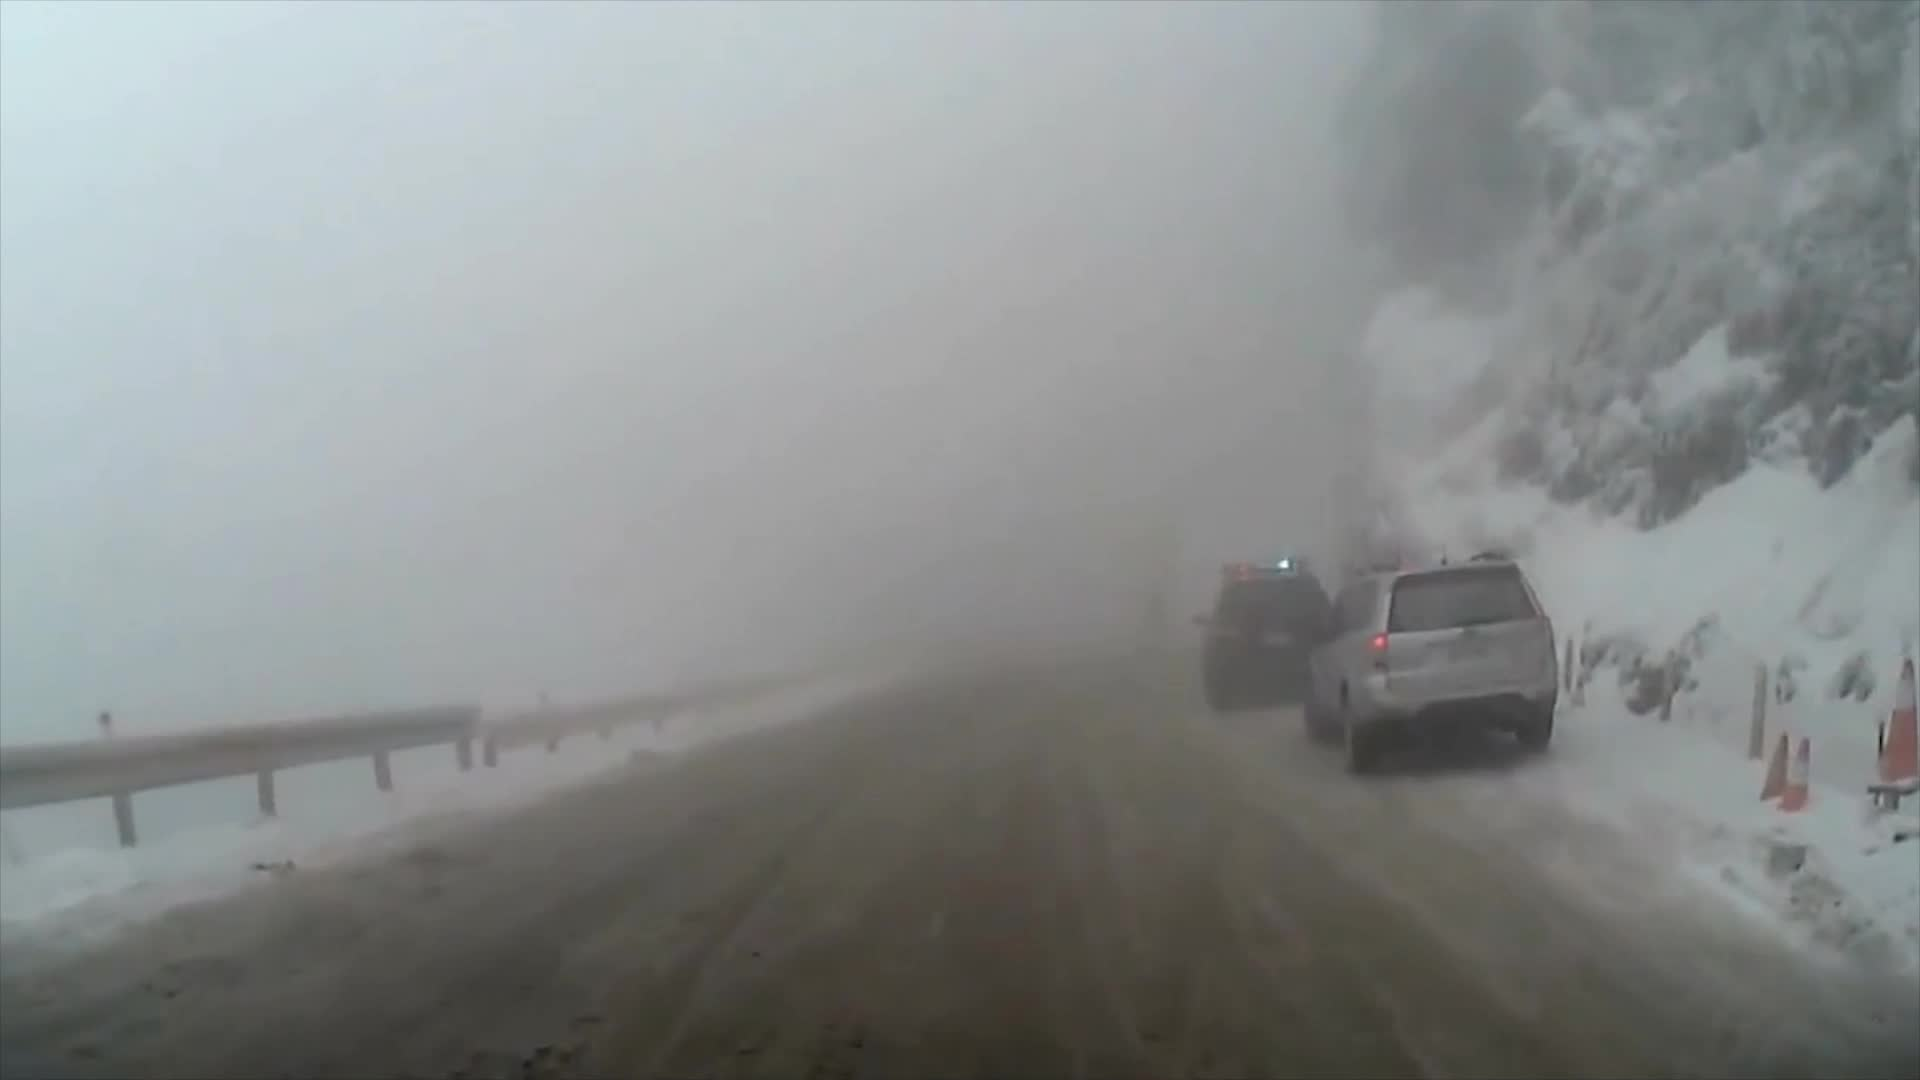vehicle: (1294, 539, 1555, 771), (1189, 553, 1340, 712)
